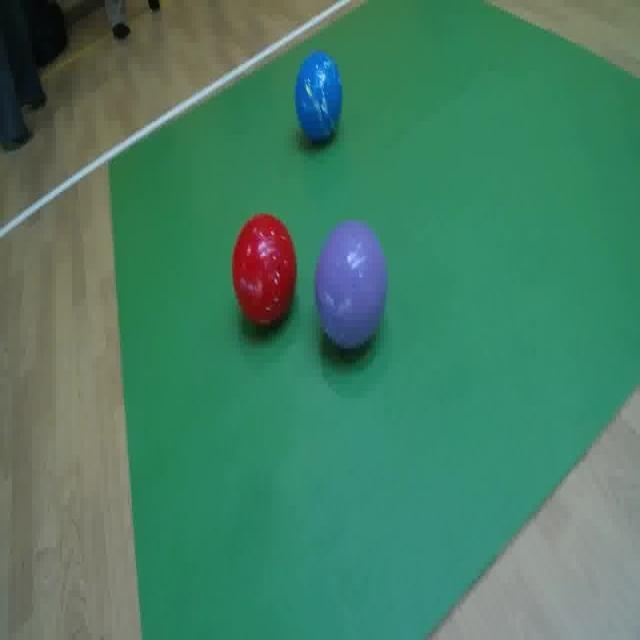blue_ball: (290, 43, 350, 151)
purple_ball: (314, 209, 390, 370)
red_ball: (224, 203, 305, 337)
